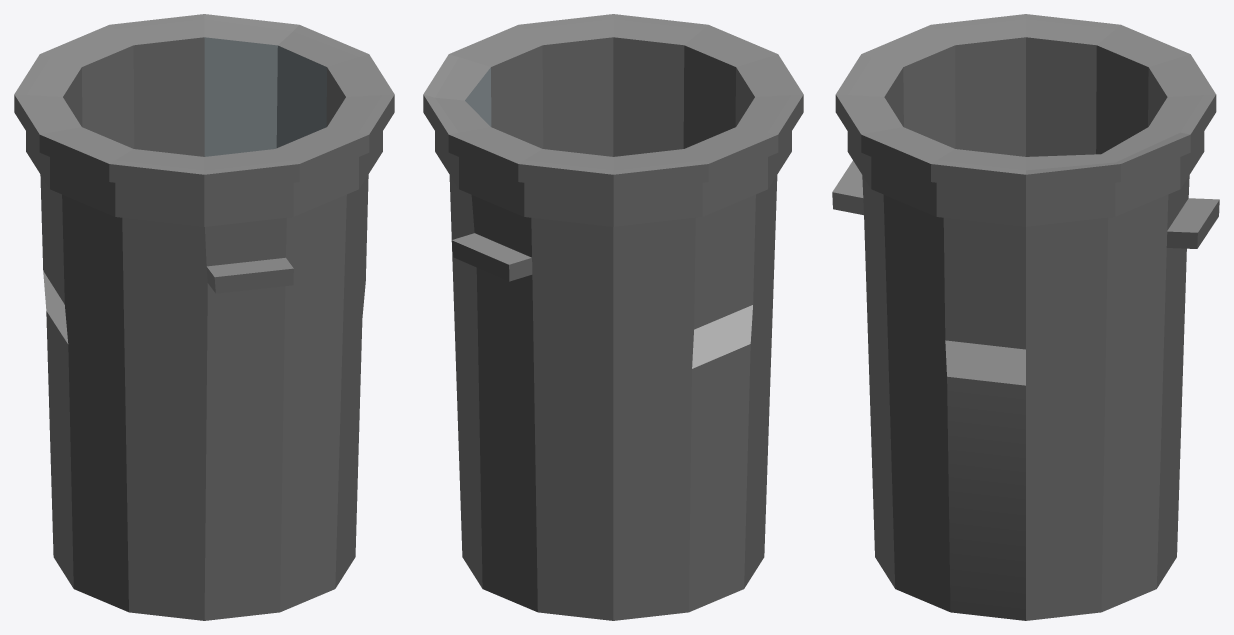
The model's file is StructureCompilation.fbx.
3 views of the same model, side by side, from view 1: azimuth 30°, elevation 25°; view 2: azimuth 150°, elevation 25°; view 3: azimuth 270°, elevation 25° (orthographic).
Visible parts, largest first — view 1: TrashGray; view 2: TrashGray; view 3: TrashGray.
Part boxes in pixels (left/top/right/bottom): TrashGray: left=14, top=14, right=394, bottom=620; TrashGray: left=423, top=14, right=803, bottom=620; TrashGray: left=832, top=14, right=1219, bottom=620.
Bounding box in the file's own units: 0.9056 × 0.9224 × 1.22.
